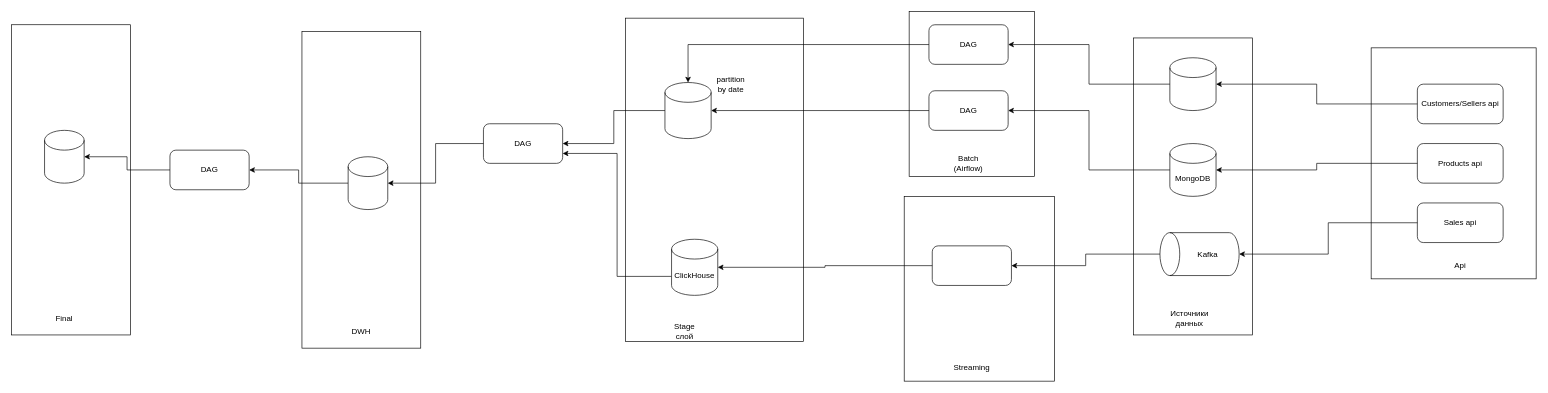
The diagram is 1548 pixels wide and 393 high, and some of its shapes have lost their labels. The centre of each missing label's shape, as x and y in pixels:
ClickHouse (витрины): (x=64, y=156)
ClickHouse (снежинка): (x=367, y=183)
Iceberg (S3): (x=687, y=110)
PostgreSQL: (x=1192, y=84)
Python-service: (x=971, y=265)
